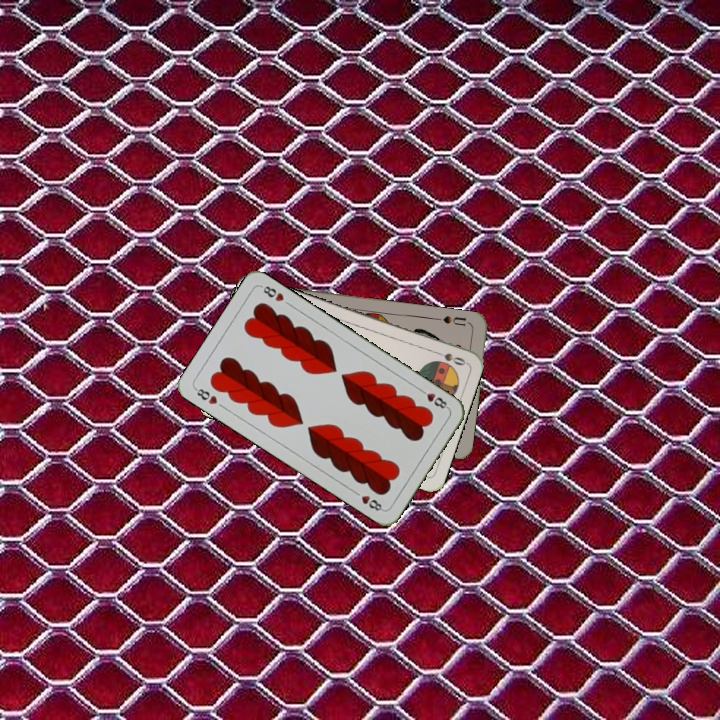H8: (415, 385, 451, 412), (191, 384, 220, 407)
SO: (429, 346, 468, 368)
SU: (439, 312, 473, 328)
